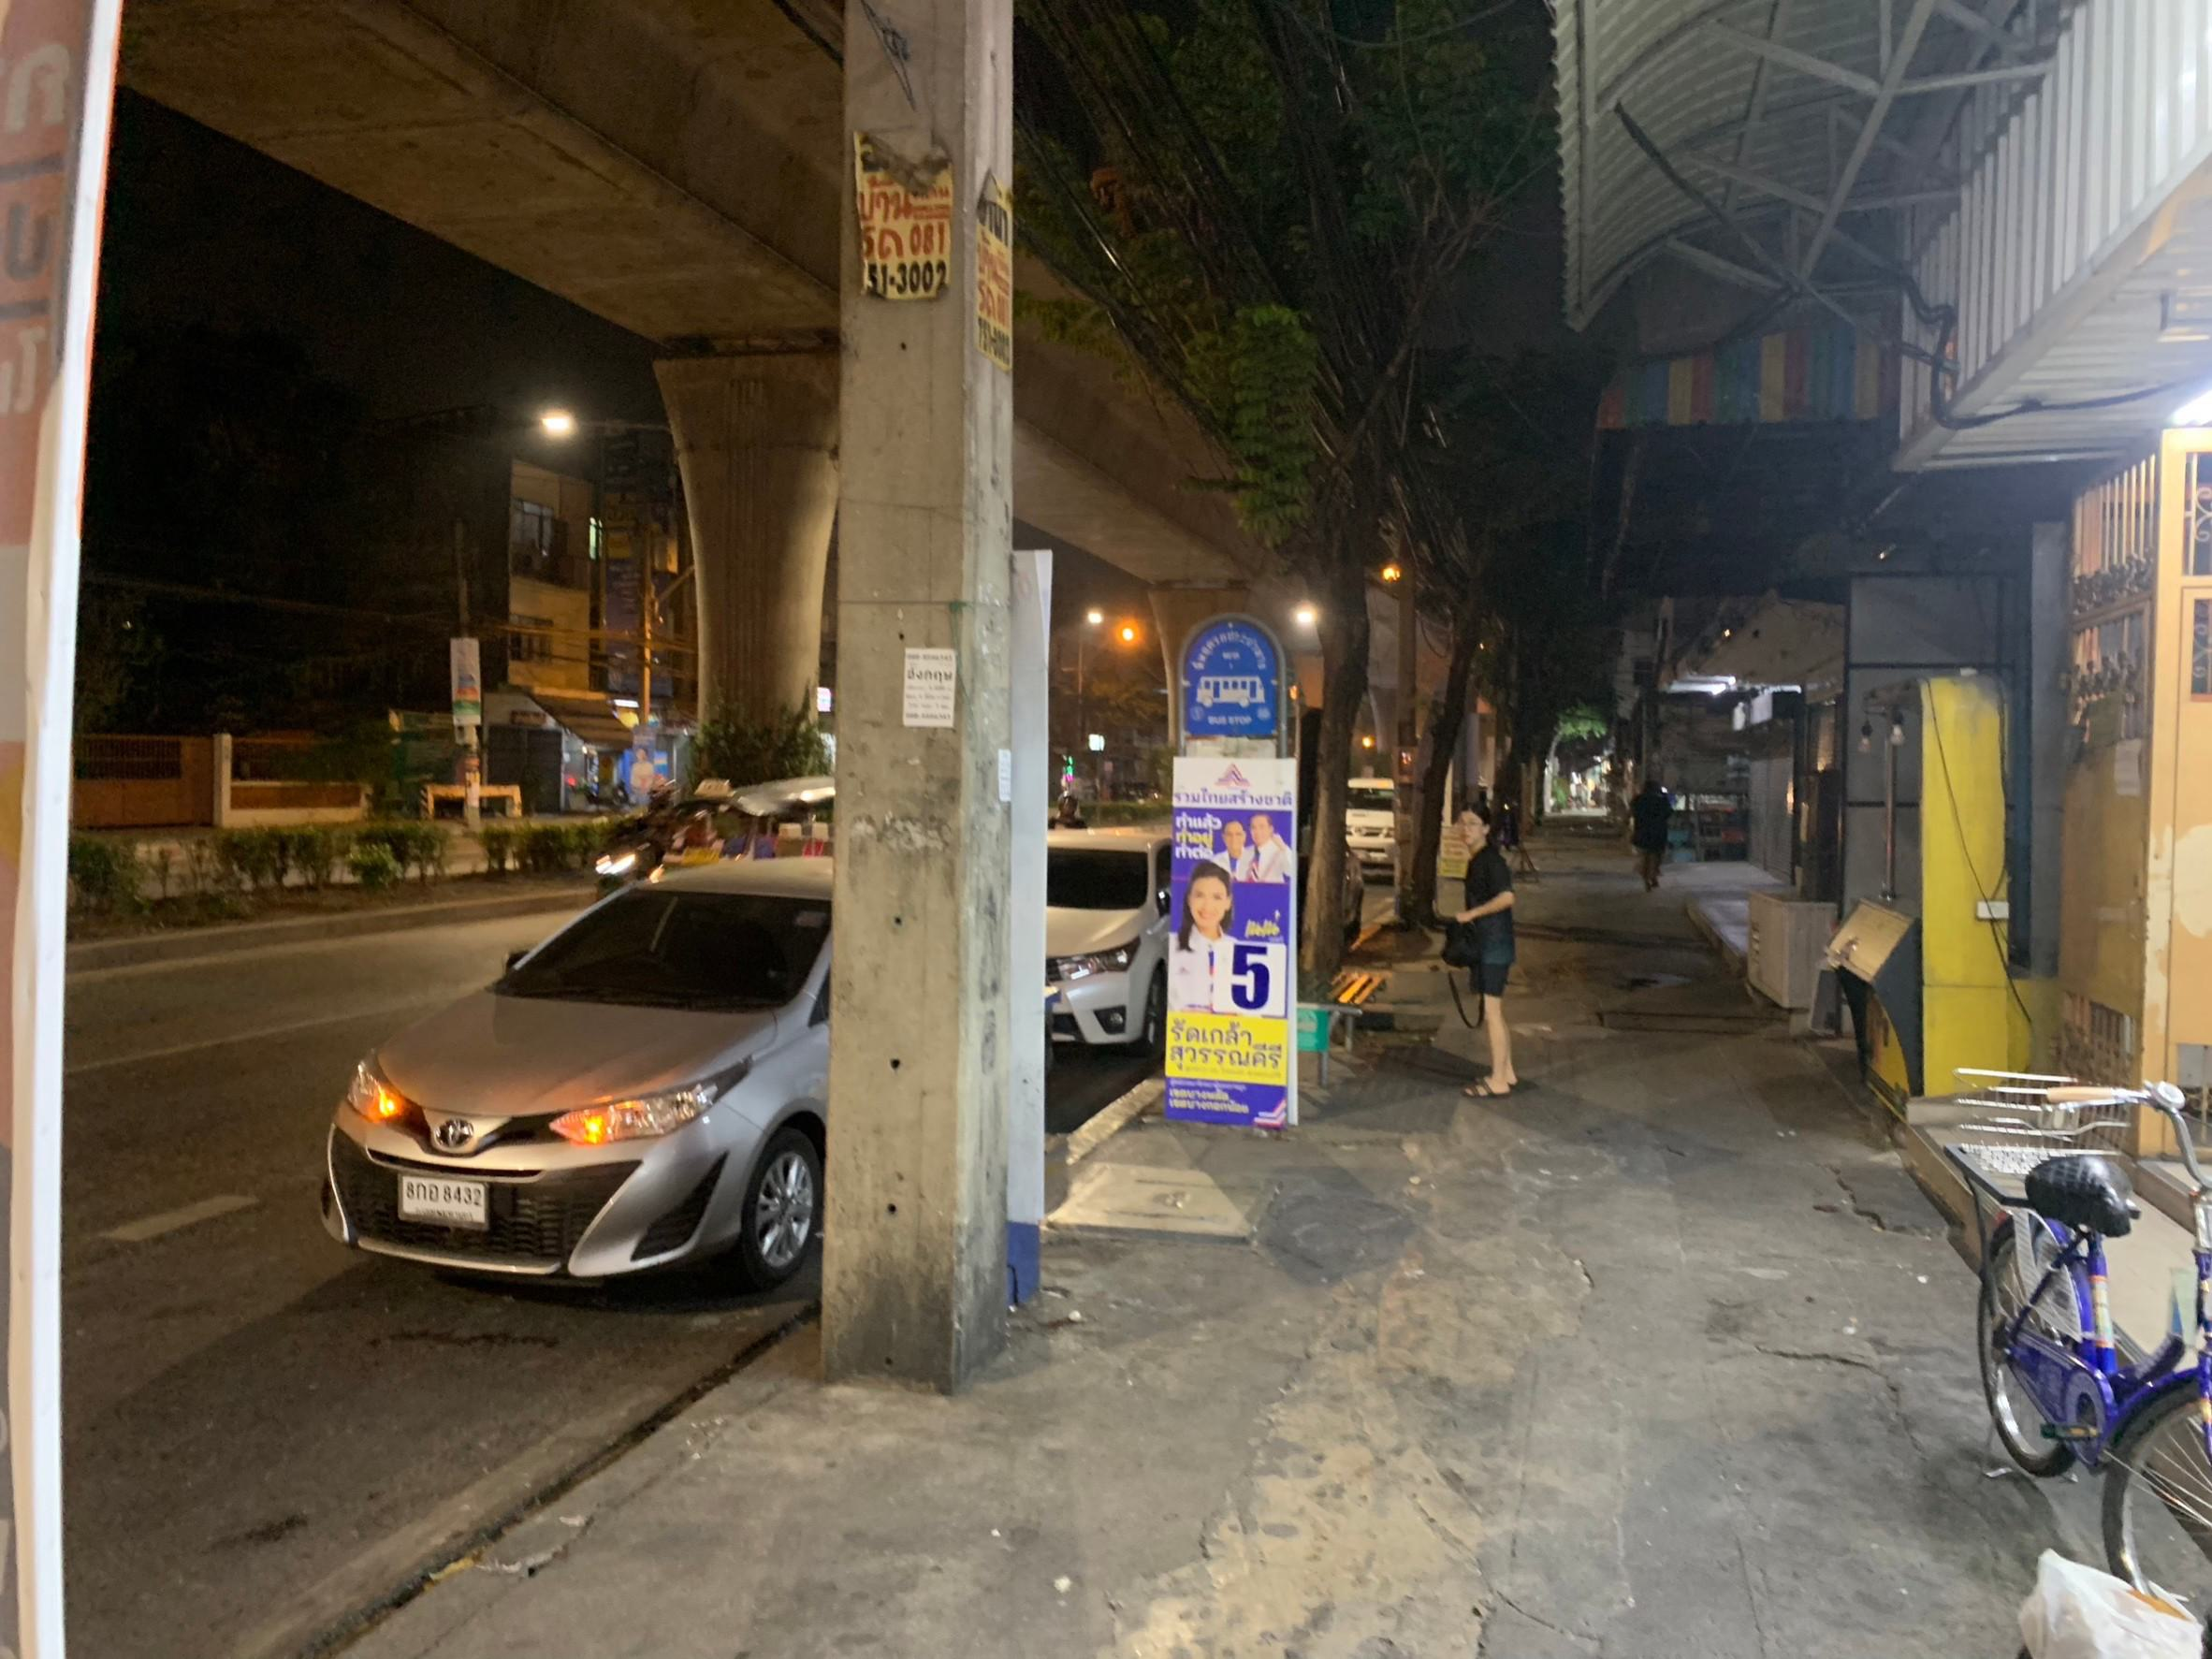Banner: (1158, 755, 1298, 1175)
